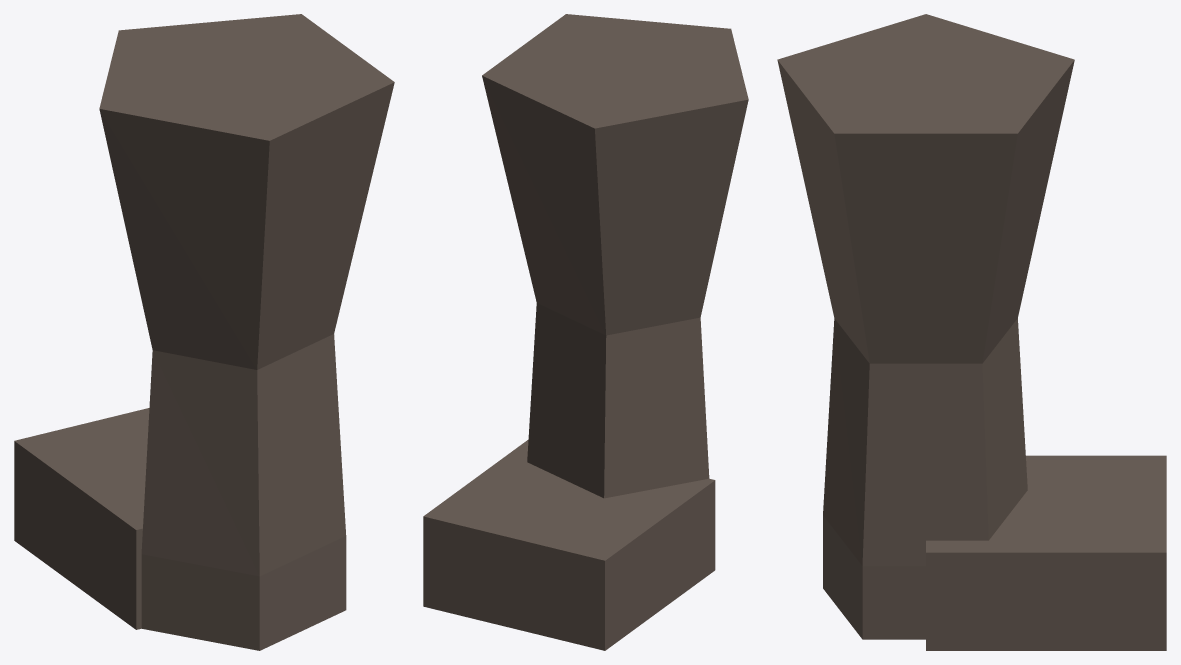
File: animal_rat_leg.obj
The picture shows the model from 3 angles, left to right: view 1: azimuth 30°, elevation 25°; view 2: azimuth 150°, elevation 25°; view 3: azimuth 270°, elevation 25°; orthographic projection. The views are drawn at different scales.
Visible parts, largest first — view 1: animal_rat_leg; view 2: animal_rat_leg; view 3: animal_rat_leg.
Boxes of the visible parts, x1,y1,x2,y2 form: animal_rat_leg: (14, 14, 394, 650); animal_rat_leg: (423, 14, 748, 650); animal_rat_leg: (777, 14, 1166, 650).
Bounding box in the file's own units: 0.0472 × 0.0961 × 0.0649.
